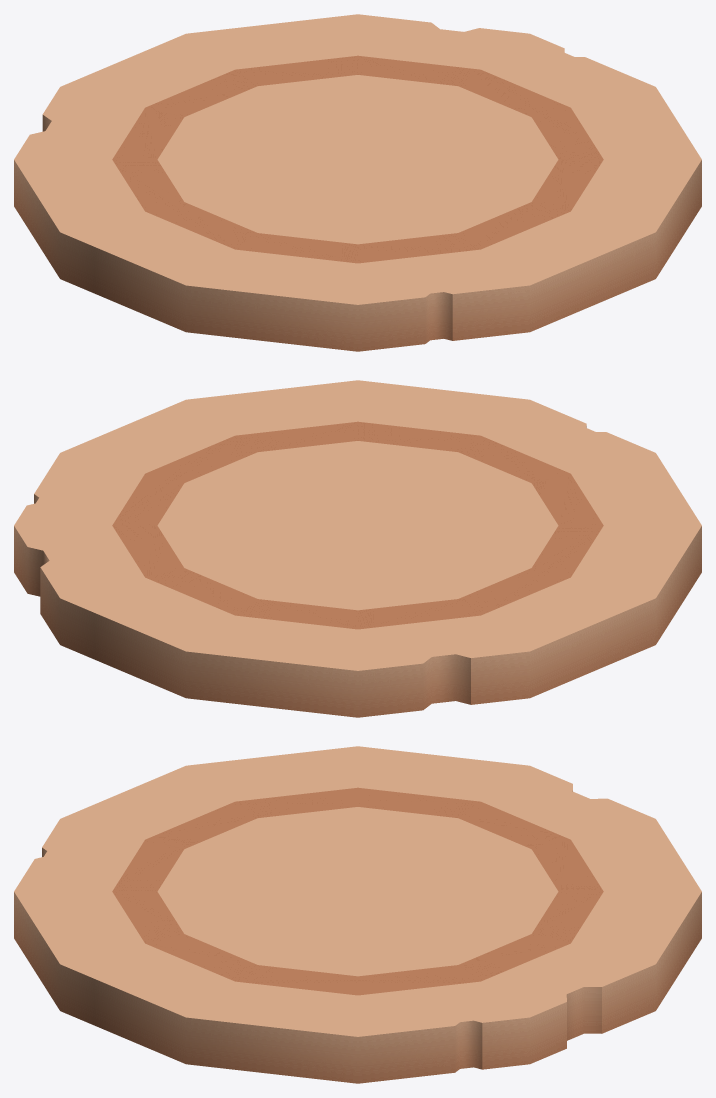
Rendered from cutting-board-round.glb.
The picture shows the model from 3 angles, top to bottom: view 1: azimuth 30°, elevation 25°; view 2: azimuth 150°, elevation 25°; view 3: azimuth 270°, elevation 25°; orthographic projection.
Visible parts, largest first — view 1: cutting-board-round; view 2: cutting-board-round; view 3: cutting-board-round.
Part boxes in pixels (x1=…): cutting-board-round: x1=14, y1=14, x2=701, y2=351; cutting-board-round: x1=14, y1=380, x2=701, y2=717; cutting-board-round: x1=14, y1=746, x2=701, y2=1083.
Size of the model in its own units: 0.8 by 0.06 by 0.8.
1 material, 1 textured.
